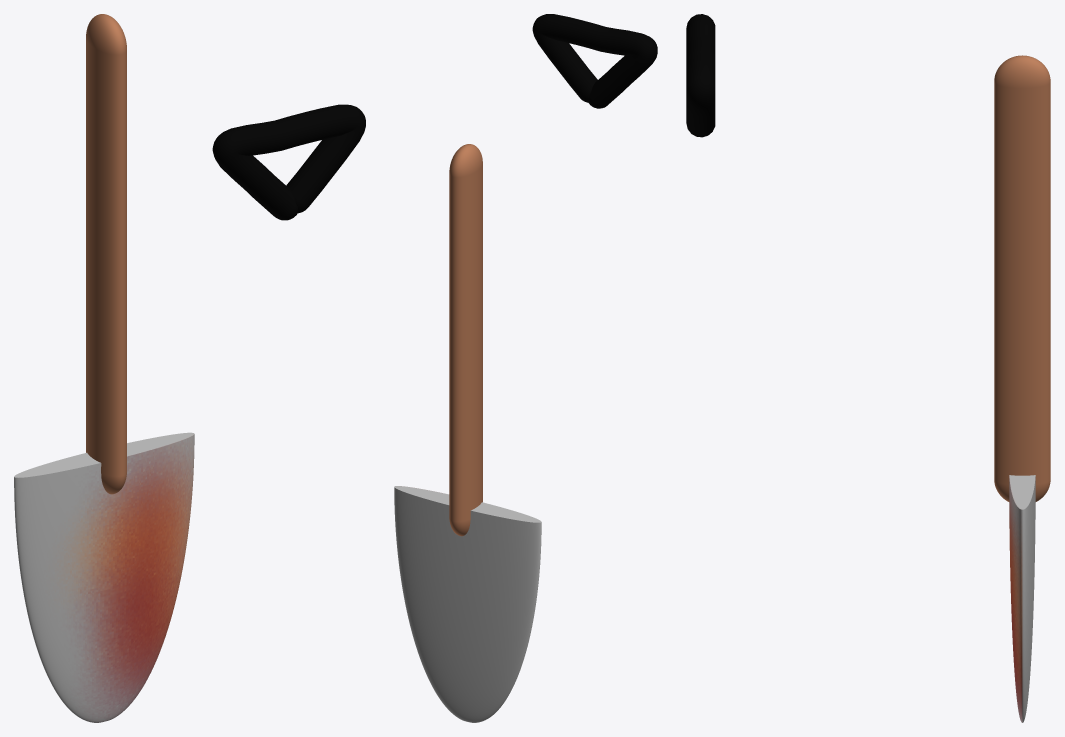
Rendered from shovel.glb.
3 views of the same model, side by side, from view 1: azimuth 30°, elevation 25°; view 2: azimuth 150°, elevation 25°; view 3: azimuth 270°, elevation 25° (orthographic). The views are drawn at different scales.
Visible parts, largest first — view 1: mesh_id29, mesh_id27, mesh_id40; view 2: mesh_id29, mesh_id27, mesh_id40; view 3: mesh_id27, mesh_id29, mesh_id40.
Part boxes in pixels (bbox=[...]): mesh_id29: bbox=[14, 432, 194, 722]; mesh_id27: bbox=[86, 14, 126, 494]; mesh_id40: bbox=[212, 104, 365, 220]; mesh_id29: bbox=[394, 486, 541, 722]; mesh_id27: bbox=[449, 144, 482, 536]; mesh_id40: bbox=[532, 14, 657, 108]; mesh_id27: bbox=[994, 55, 1050, 501]; mesh_id29: bbox=[1009, 475, 1035, 722]; mesh_id40: bbox=[686, 14, 715, 137].
Bounding box in the file's own units: 0.0879 × 0.3394 × 0.1637.
3 materials, 3 textured.
